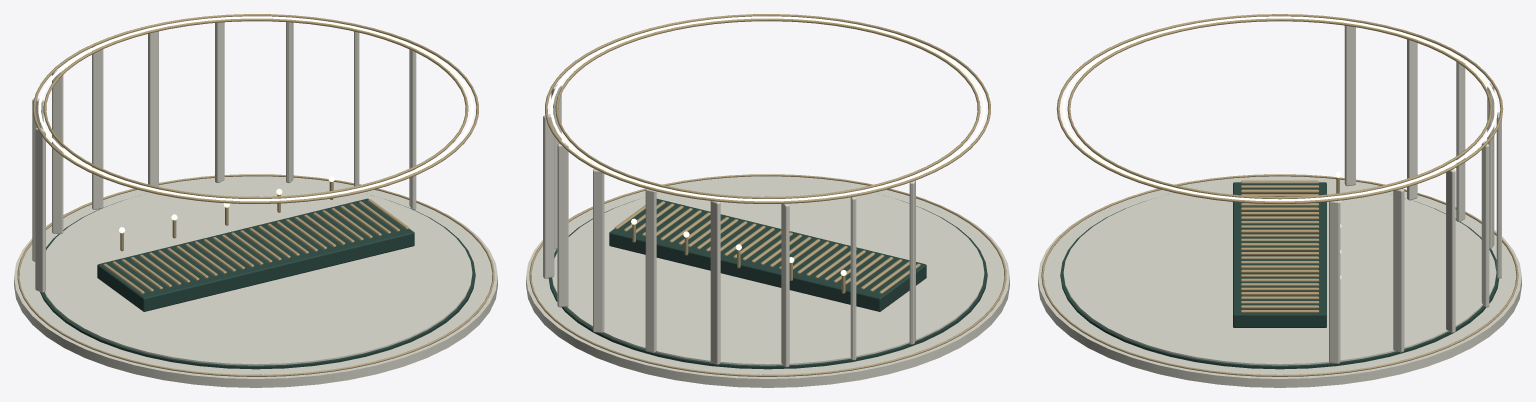
Rendered from jobs.glb.
3 views of the same model, side by side, from view 1: azimuth 30°, elevation 25°; view 2: azimuth 150°, elevation 25°; view 3: azimuth 270°, elevation 25° (orthographic).
Parts seen in each view (by area): view 1: jobs; view 2: jobs; view 3: jobs.
Boxes of the visible parts, x1,y1,x2,y2 form: jobs: [14, 14, 497, 387]; jobs: [526, 14, 1009, 387]; jobs: [1038, 14, 1521, 387].
Size of the model in its own units: 10.8 by 4.38 by 10.8.
